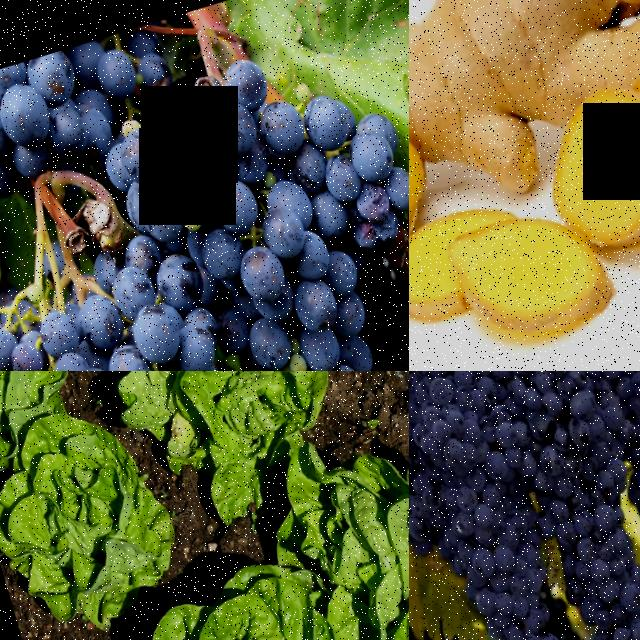ginger: (409, 0, 640, 198)
grapes: (127, 42, 409, 371), (0, 228, 317, 371), (508, 406, 640, 640), (421, 472, 602, 640), (0, 27, 153, 208), (409, 371, 602, 505), (594, 371, 640, 640)
lettuce: (0, 395, 190, 637), (111, 371, 361, 517), (293, 438, 409, 640), (129, 553, 378, 640), (0, 371, 95, 477)
